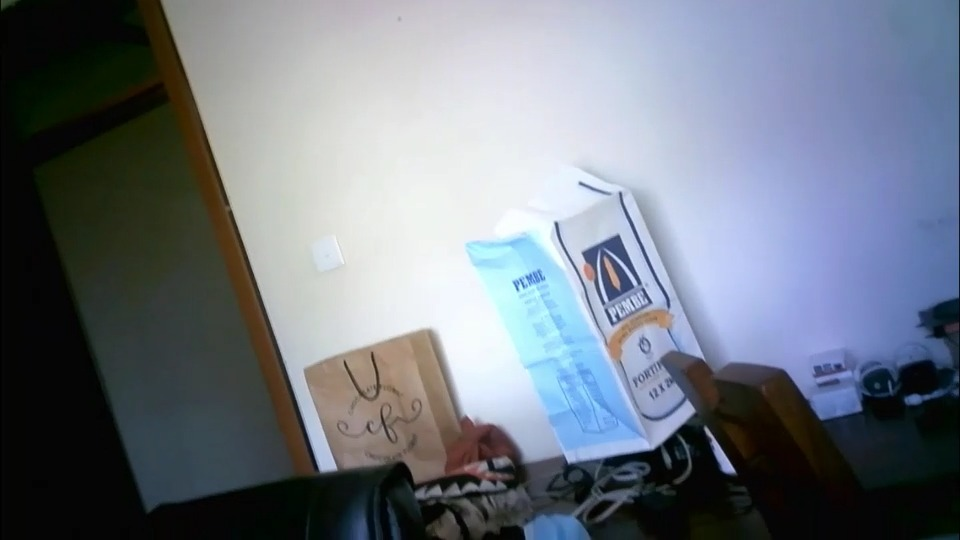wheat_flour_blue_label: (465, 165, 712, 458)
